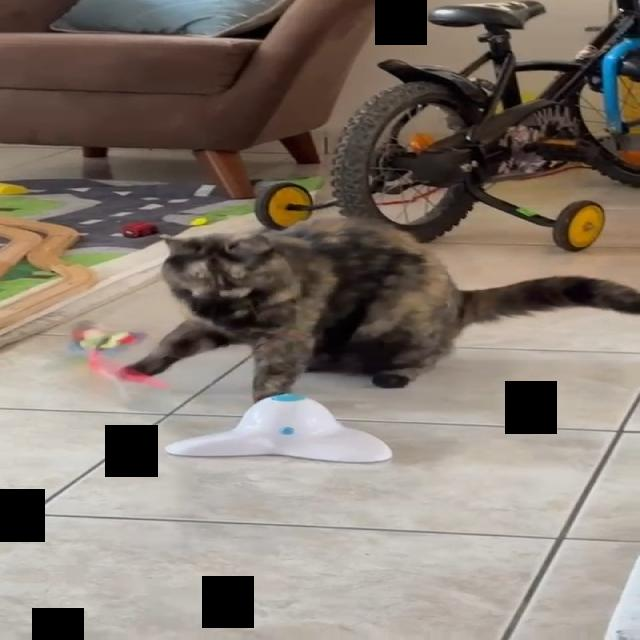authorized: (117, 216, 639, 404)
